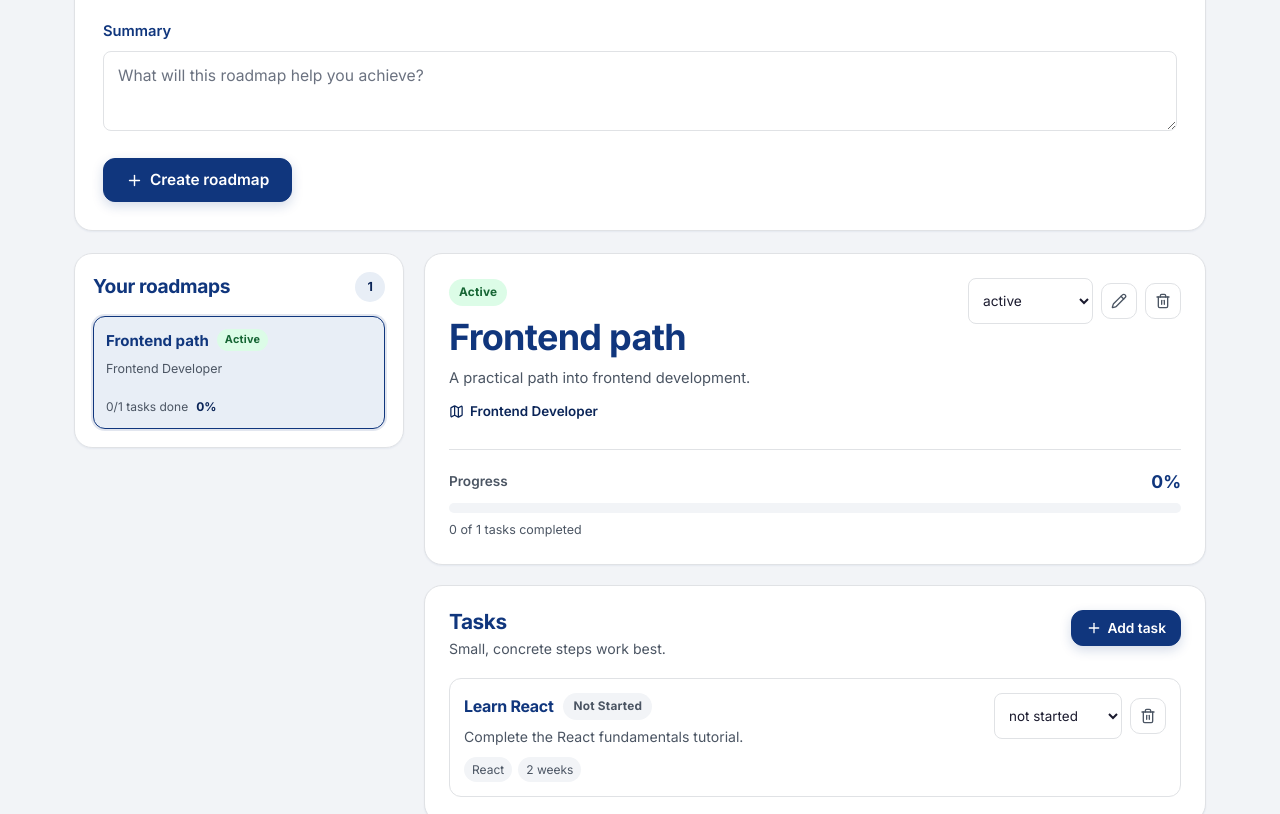
Test case: adds a task to the selected roadmap
(page scrolled)
Click the button "Add task". click: {"x": 1126, "y": 628}
box: [1071,610,1181,646]
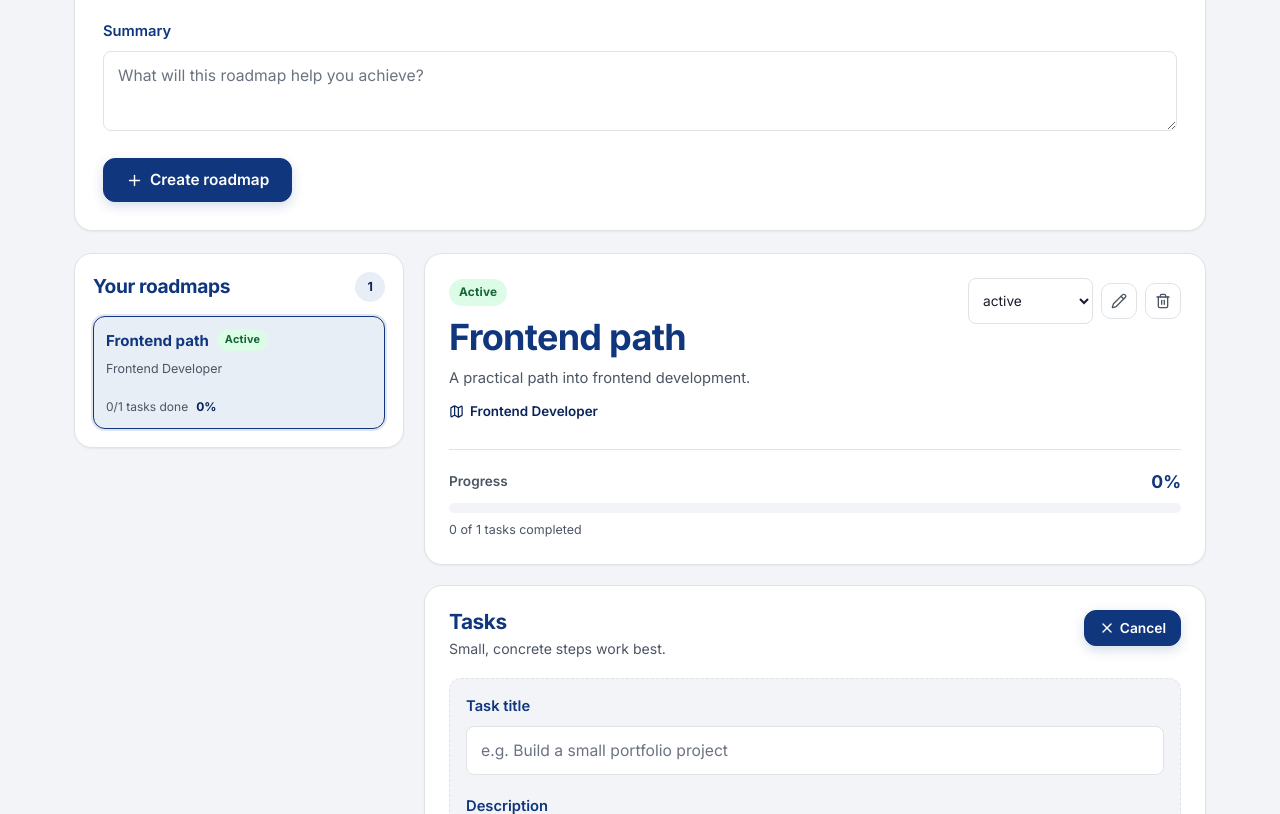
Type "Build a portfolio" into the field labelled "Task title". click: {"x": 815, "y": 750}
box: [466,726,1164,775]
(page scrolled)
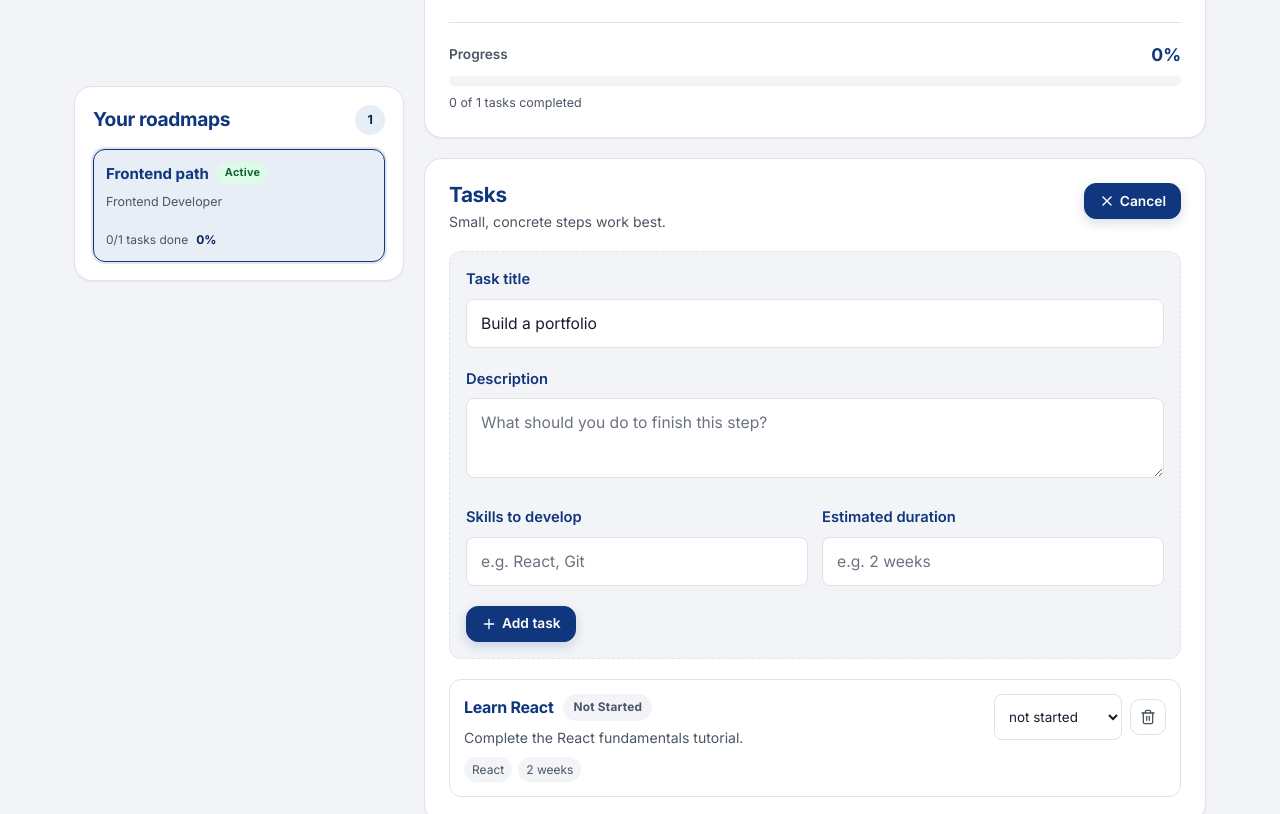
Click the button "Add task". click: {"x": 521, "y": 624}
box: [466,606,576,642]
(page scrolled)
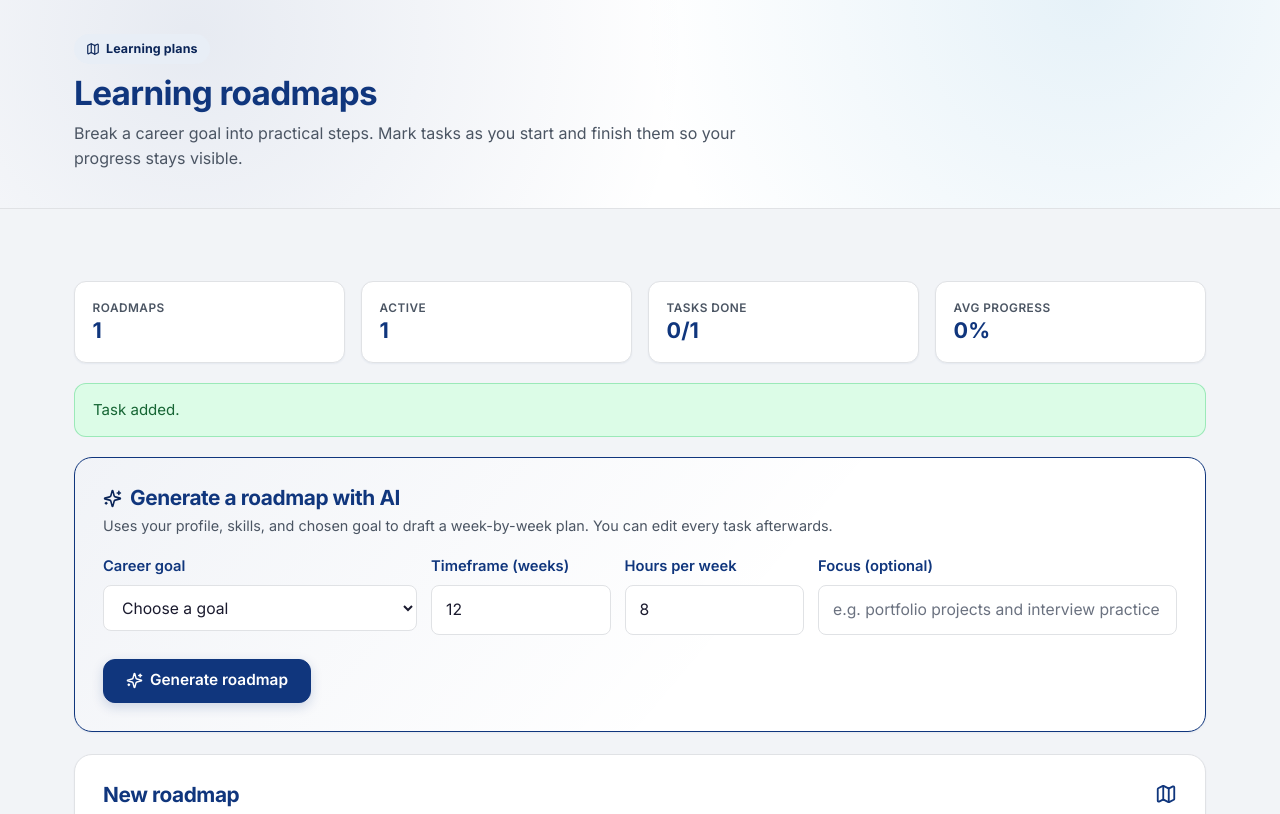
Now the text "Task added." is shown, box [74,383,1206,437]
